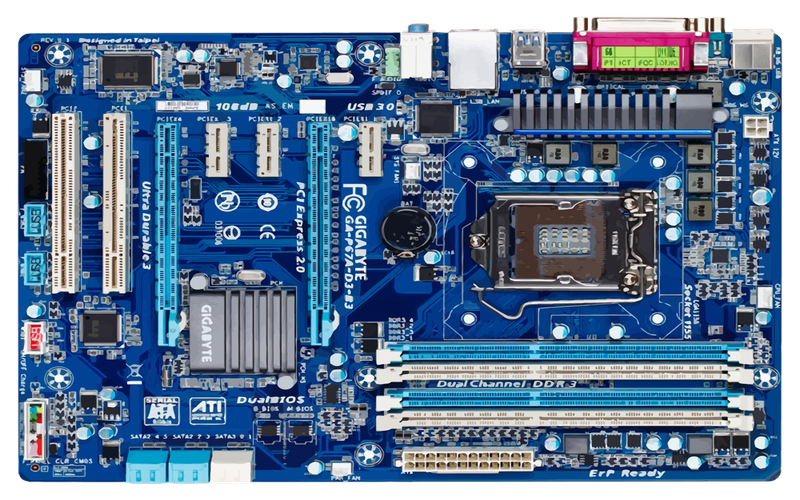Cirtuit-Board: (15, 24, 788, 490)
